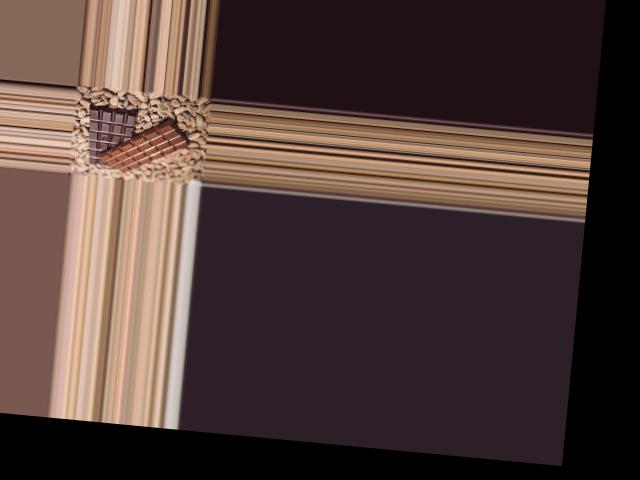chocolate: (78, 101, 137, 171)
